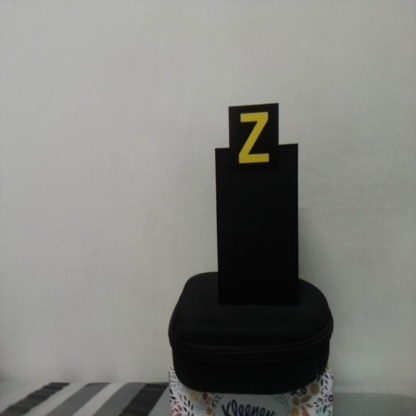id_15: (229, 107, 279, 173)
